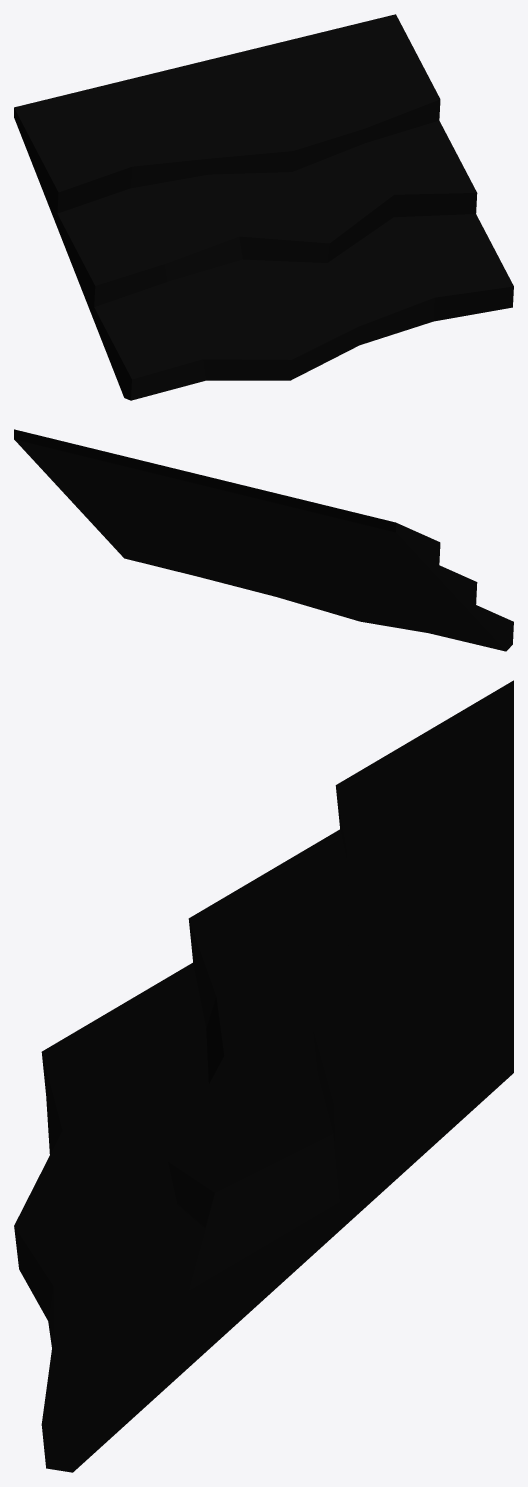
The model's file is Roof 03 Mid Angle 2.fbx.
3 renders of one model, top to bottom at view 1: azimuth 30°, elevation 25°; view 2: azimuth 150°, elevation 25°; view 3: azimuth 270°, elevation 25°, orthographic. The views are drawn at different scales.
Visible parts, largest first — view 1: Roof 03 Mid Angle 2; view 2: Roof 03 Mid Angle 2; view 3: Roof 03 Mid Angle 2.
Boxes of the visible parts, box(x1,y1,x2,y2) form: Roof 03 Mid Angle 2: box(14, 14, 513, 400); Roof 03 Mid Angle 2: box(14, 429, 513, 651); Roof 03 Mid Angle 2: box(14, 680, 513, 1472).
Bounding box in the file's own units: 400 × 222 × 227.
